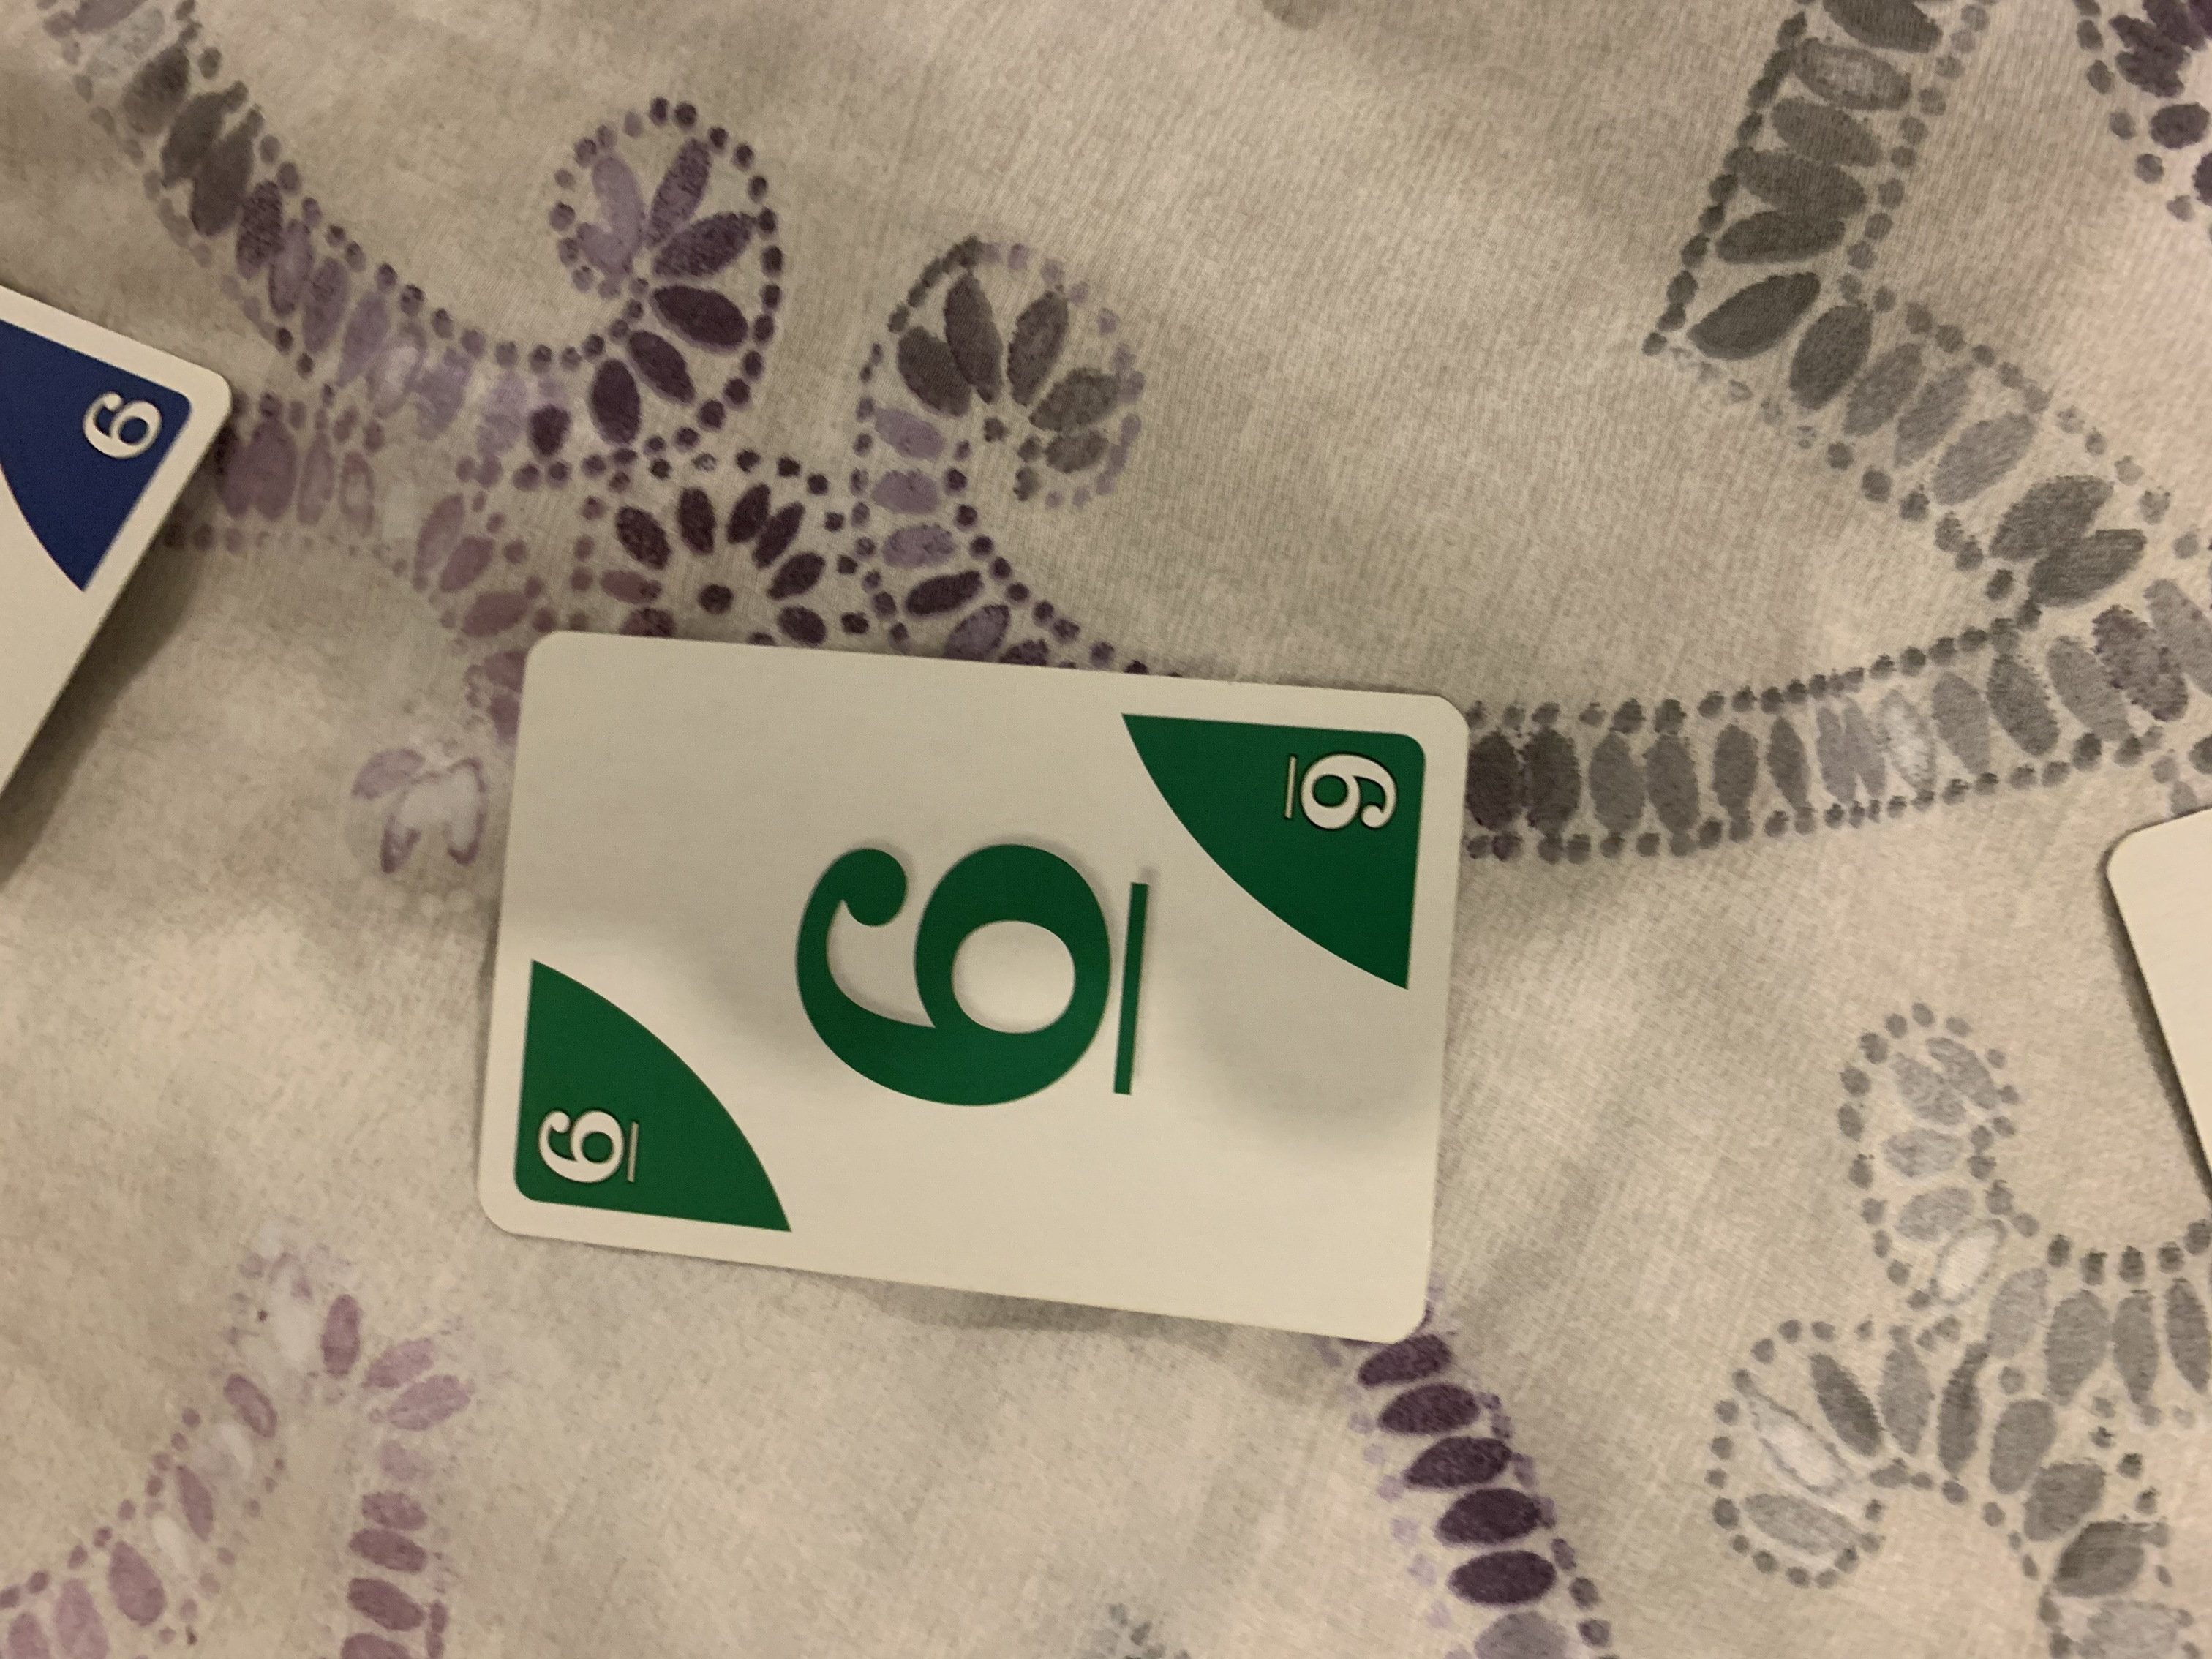six: (465, 613, 1472, 1347)
